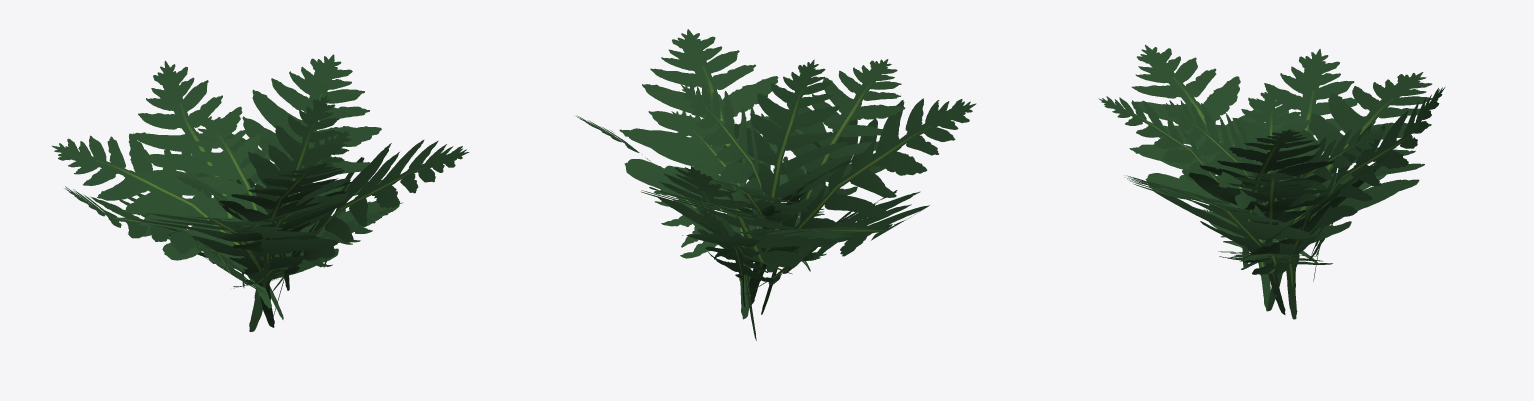
Rendered from Fern_1.fbx.
3 views of the same model, side by side, from view 1: azimuth 30°, elevation 25°; view 2: azimuth 150°, elevation 25°; view 3: azimuth 270°, elevation 25° (orthographic). The views are drawn at different scales.
Parts seen in each view (by area): view 1: Fern_Bush_1; view 2: Fern_Bush_1; view 3: Fern_Bush_1.
Boxes of the visible parts, x1=… form: Fern_Bush_1: x1=52, y1=54, x2=469, y2=331; Fern_Bush_1: x1=576, y1=29, x2=976, y2=340; Fern_Bush_1: x1=1098, y1=44, x2=1445, y2=319.
Size of the model in its own units: 2.08 by 1.29 by 2.02.
Materials: 3 (3 with a texture image).
